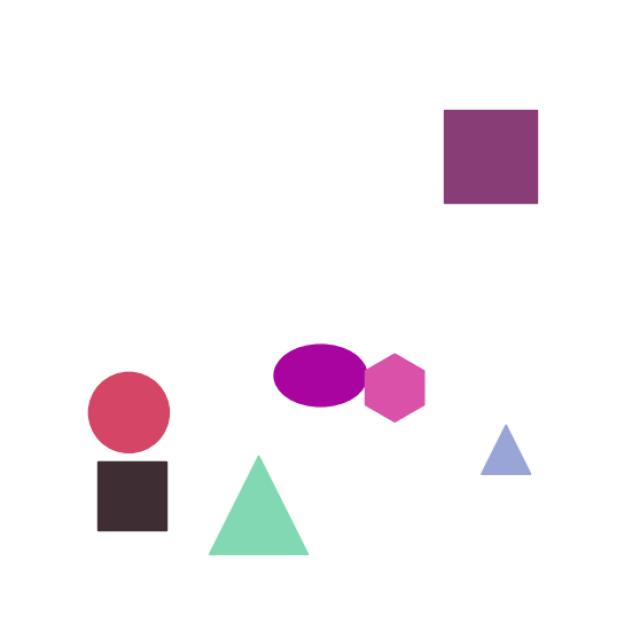Circle: (60, 367, 186, 462)
Hexagon: (337, 332, 436, 444)
Oval: (259, 336, 393, 419)
Triangle: (195, 441, 328, 585), (468, 405, 560, 528)
square: (413, 99, 575, 253), (86, 445, 179, 550)
